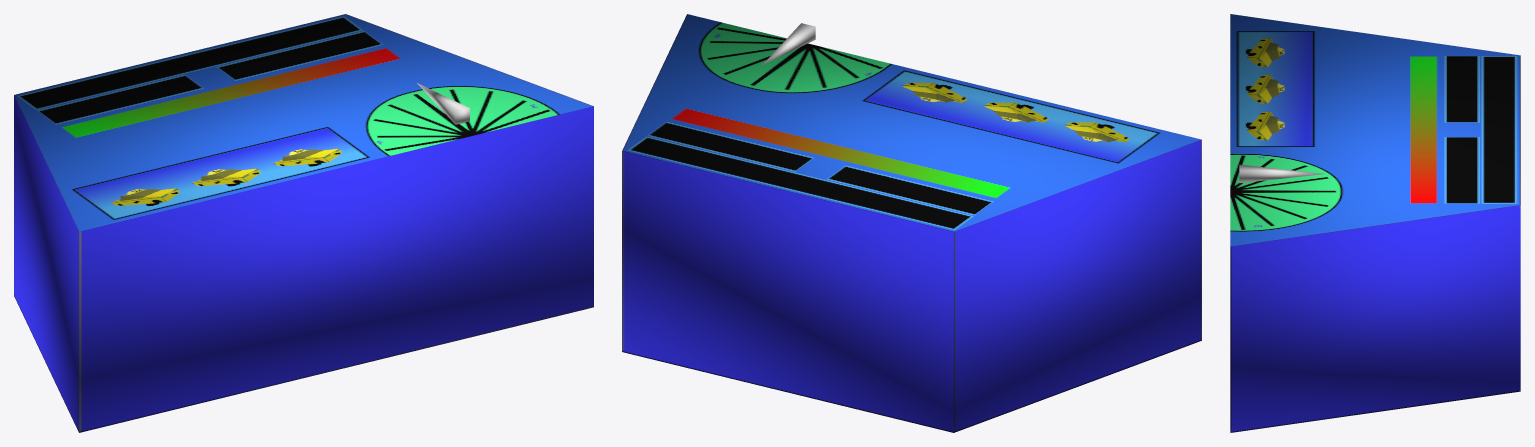
Rendered from dashBoard.fbx.
The picture shows the model from 3 angles, left to right: view 1: azimuth 30°, elevation 25°; view 2: azimuth 150°, elevation 25°; view 3: azimuth 270°, elevation 25°; orthographic projection. The views are drawn at different scales.
Visible parts, largest first — view 1: MainDash, Needle; view 2: MainDash, Needle; view 3: MainDash, Needle.
Part boxes in pixels (x1,y1,x2,y2): MainDash: (14, 14, 593, 432); Needle: (417, 83, 469, 124); MainDash: (622, 14, 1201, 432); Needle: (762, 23, 815, 64); MainDash: (1230, 14, 1520, 432); Needle: (1239, 164, 1324, 183).
Bounding box in the file's own units: 2 × 0.8339 × 1.05.
1 material, 1 textured.
